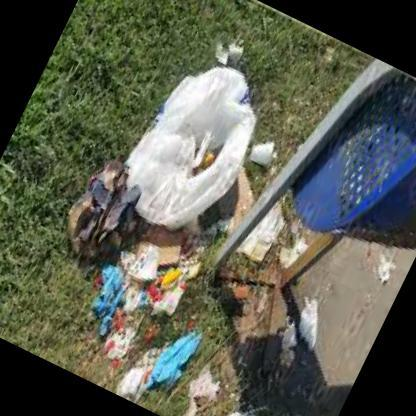Garbage: (82, 219, 206, 368), (58, 156, 154, 271)
